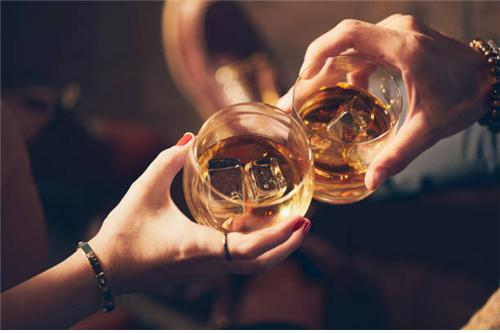alcohol: (295, 49, 407, 208), (187, 102, 312, 238)
